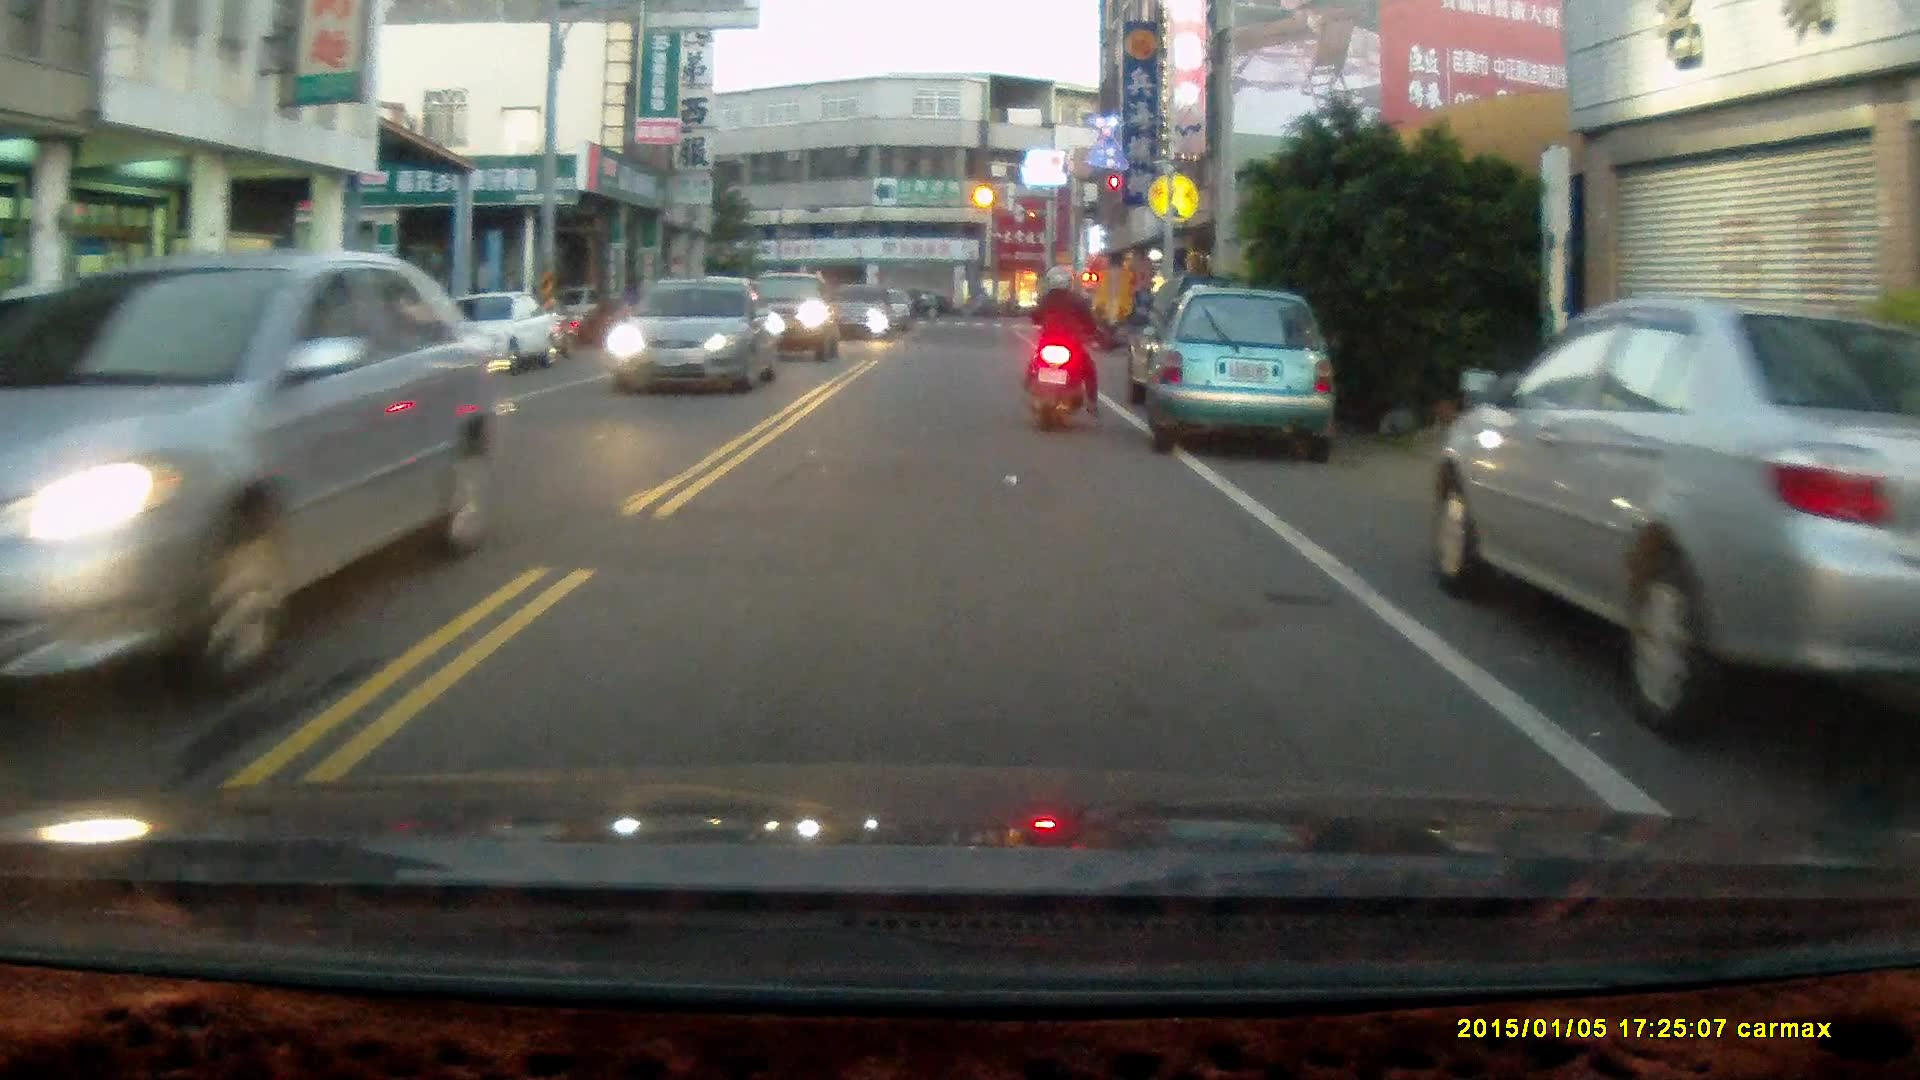rider: (1025, 265, 1106, 431)
vehicle: (1, 249, 516, 715), (1437, 296, 1920, 734), (1146, 287, 1336, 453), (613, 275, 779, 396), (401, 290, 557, 381), (719, 270, 845, 365)
